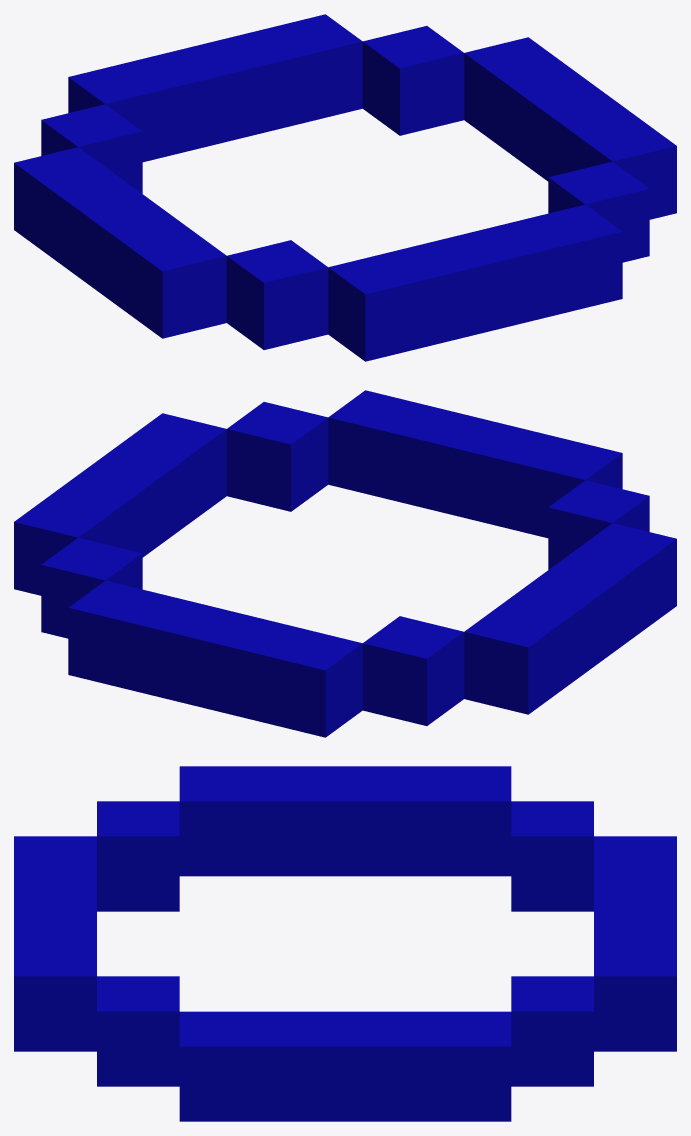
File: invincibility.fbx
The picture shows the model from 3 angles, top to bottom: view 1: azimuth 30°, elevation 25°; view 2: azimuth 150°, elevation 25°; view 3: azimuth 270°, elevation 25°; orthographic projection. The views are drawn at different scales.
Parts seen in each view (by area): view 1: Box006, Box015, Box019, Box020, Box009, Box008, Box011, Box013, Box012, Box010, Box004, Box005 (+8 smaller); view 2: Box005, Box014, Box016, Box021, Box012, Box008, Box010, Box011, Box009, Box013, Box001, Box006 (+8 smaller); view 3: Box001, Box002, Box004, Box016, Box018, Box019, Box003, Box017, Box005, Box006, Box008, Box011 (+8 smaller).
Part boxes in pixels (box(x1,y1,x2,y2)): Box006: box(362, 26, 464, 135); Box015: box(226, 240, 328, 349); Box019: box(125, 228, 226, 338); Box020: box(328, 251, 429, 361); Box009: box(457, 220, 558, 330); Box008: box(521, 204, 622, 314); Box011: box(262, 14, 362, 124); Box013: box(133, 45, 233, 155); Box012: box(197, 30, 298, 139); Box010: box(393, 236, 493, 345); Box004: box(575, 119, 676, 219); Box005: box(548, 161, 649, 262); Box005: box(226, 402, 328, 511); Box014: box(362, 616, 464, 725); Box016: box(464, 604, 565, 714); Box021: box(261, 627, 362, 737); Box012: box(132, 596, 233, 706); Box008: box(328, 390, 428, 500); Box010: box(457, 421, 557, 531); Box011: box(68, 580, 169, 690); Box009: box(392, 406, 493, 515); Box013: box(197, 612, 297, 721); Box001: box(14, 495, 115, 595); Box006: box(41, 537, 142, 638); Box001: box(428, 1011, 511, 1121); Box002: box(345, 1011, 428, 1121); Box004: box(179, 1011, 262, 1121); Box016: box(428, 766, 511, 876); Box018: box(262, 766, 345, 876); Box019: box(179, 766, 262, 876); Box003: box(262, 1011, 345, 1121); Box017: box(345, 766, 428, 876); Box005: box(97, 976, 179, 1086); Box006: box(511, 976, 593, 1086); Box008: box(14, 941, 96, 1051); Box011: box(594, 941, 676, 1051).
Size of the model in its own units: 80 by 10 by 80.
